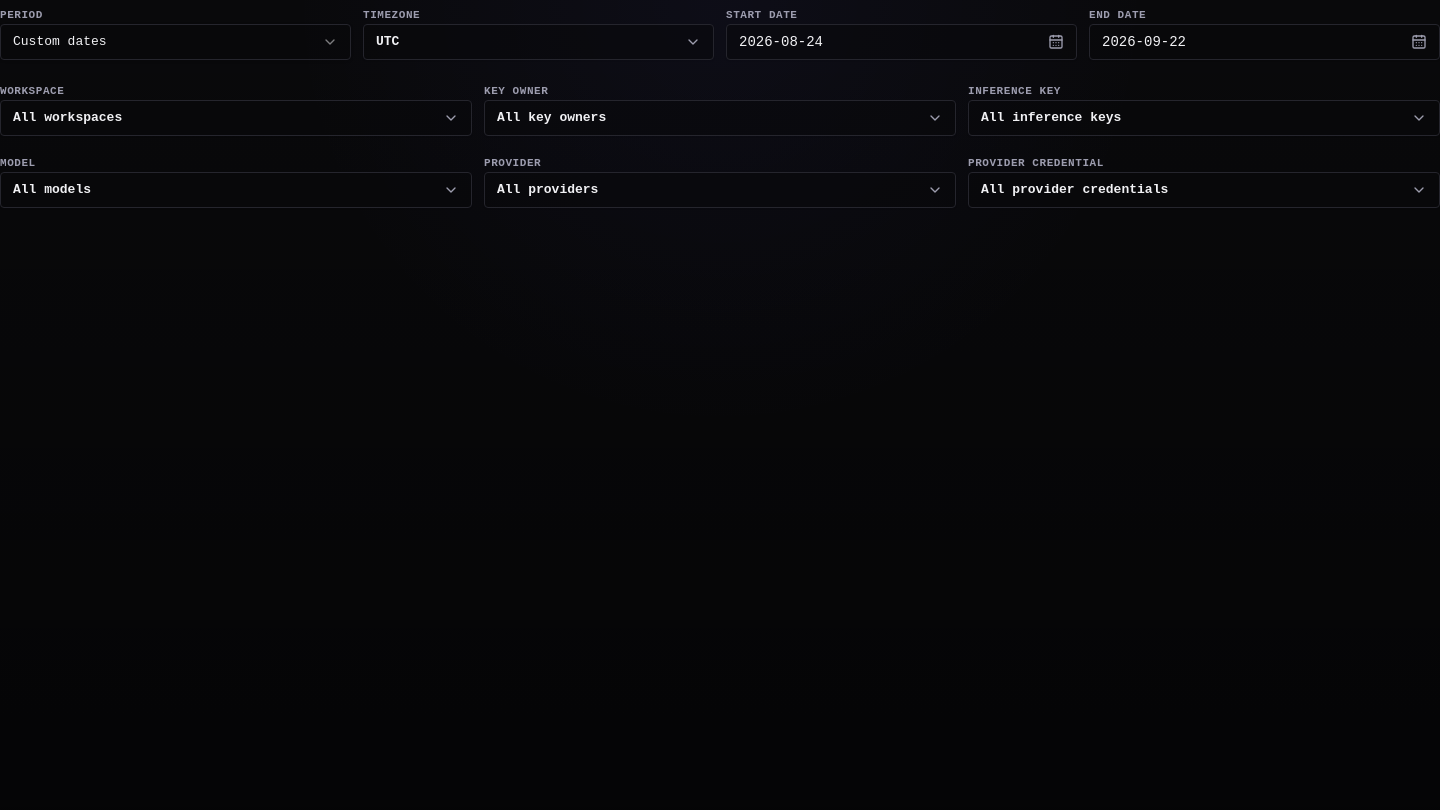
Test: opens a themed calendar and selects a reporting date
This screenshot has width=1440, height=810.
Step 1. Click the button named "Choose start date, August 24, 2026" → click(781, 42), box left=726, top=24, right=1077, bottom=60
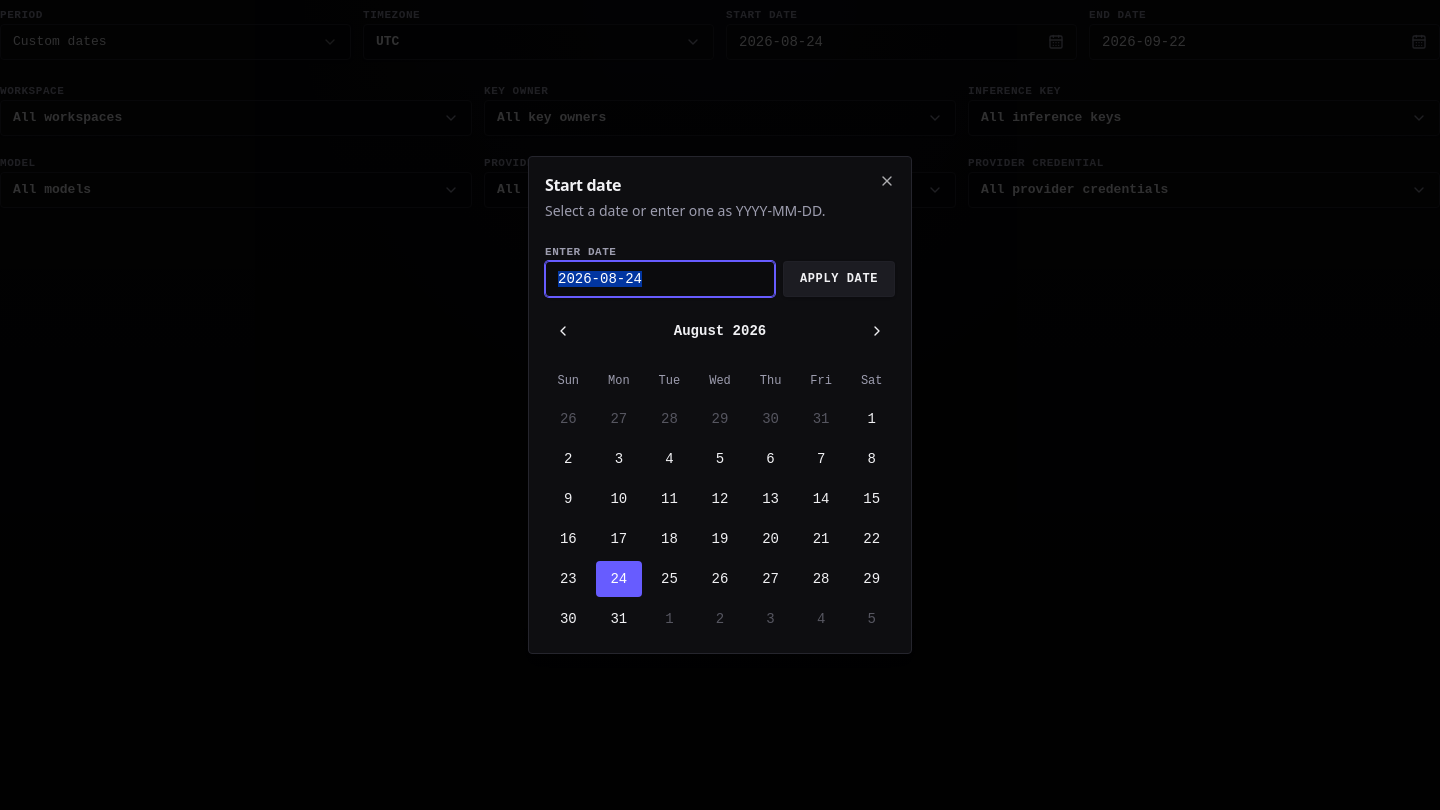
Step 2. Click the button named "August 25, 2026" → click(669, 579), box left=646, top=561, right=693, bottom=597
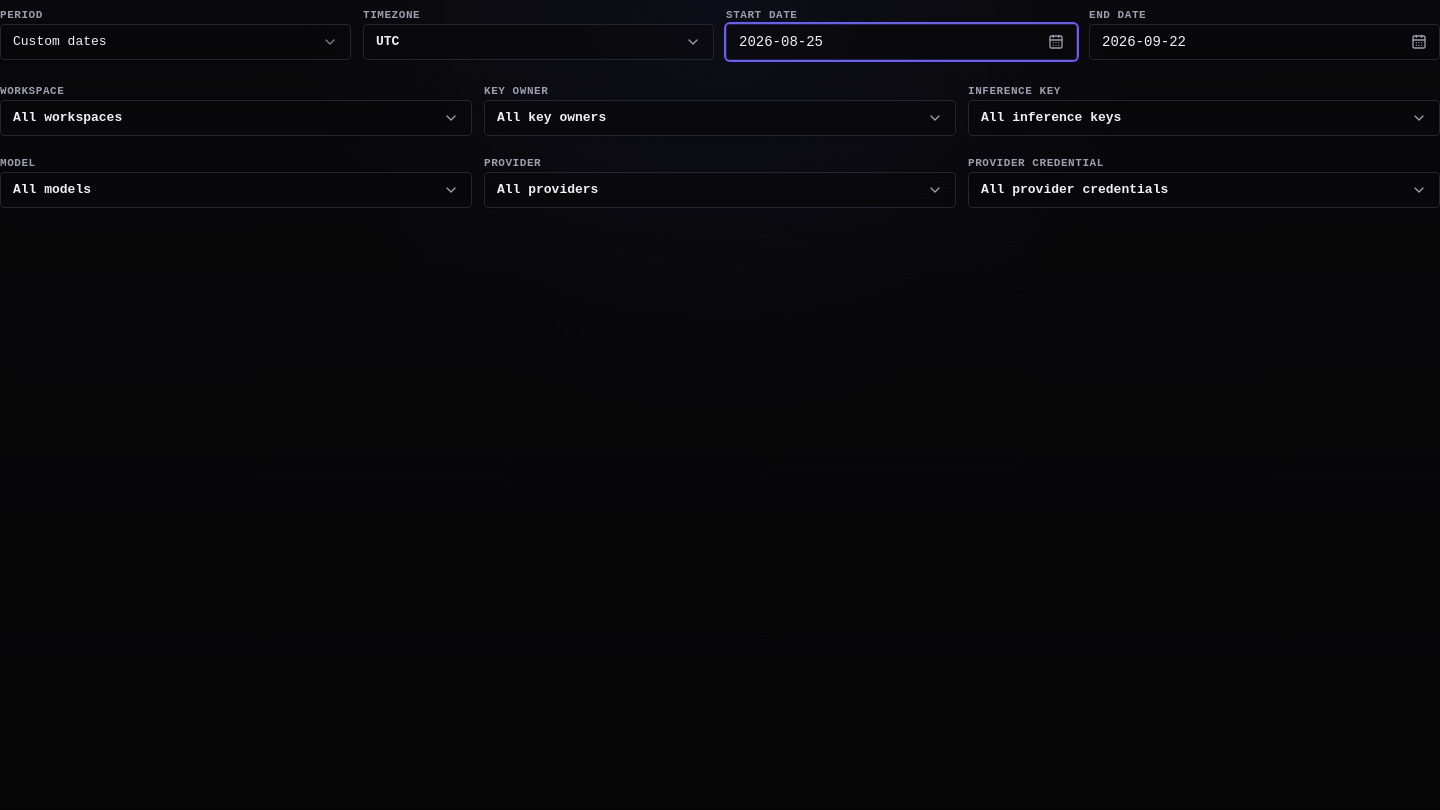
Check: the button named "Choose start date, August 25, 2026" is shown, box left=726, top=24, right=1077, bottom=60
